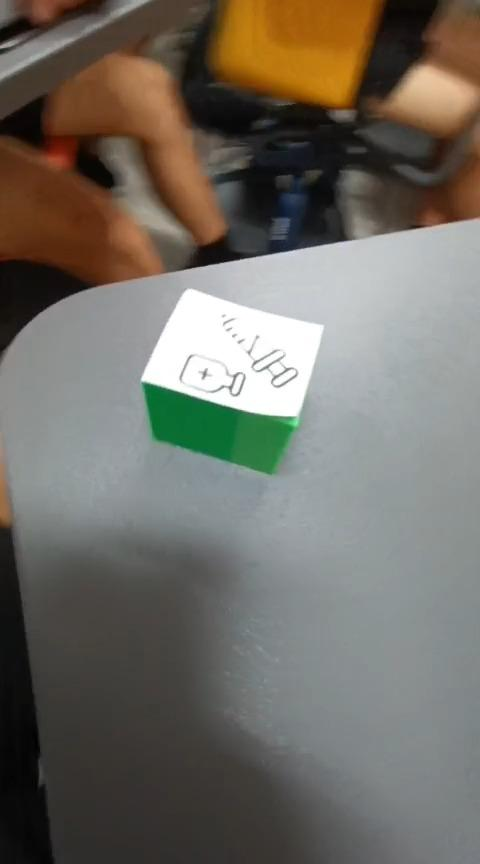antiseptic cream: (139, 286, 325, 476)
